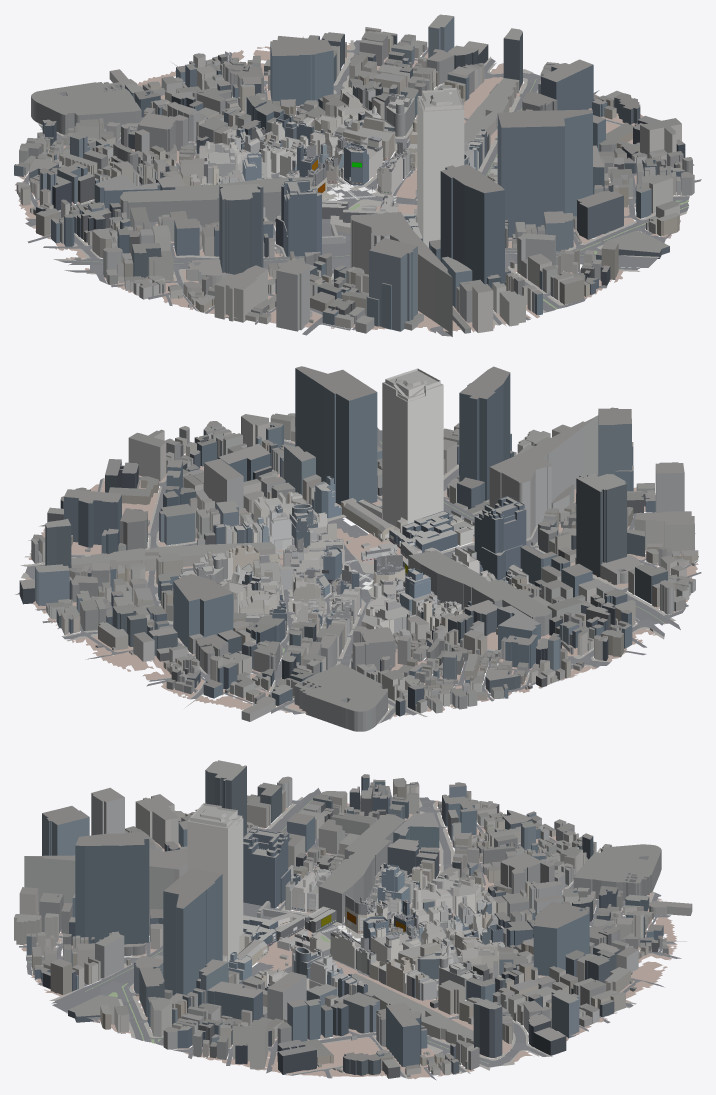
Rendered from shibuya.glb.
3 views of the same model, one above another, from view 1: azimuth 30°, elevation 25°; view 2: azimuth 150°, elevation 25°; view 3: azimuth 270°, elevation 25° (orthographic). The views are drawn at different scales.
Visible parts, largest first — view 1: BldgFar, BldgNear, Ground, Terrain; view 2: BldgFar, BldgNear, Ground, Terrain; view 3: BldgFar, BldgNear, Ground, Terrain, Signs.
Part boxes in pixels (x1=…): BldgFar: x1=14, y1=14, x2=694, y2=336; BldgNear: x1=190, y1=87, x2=497, y2=256; Ground: x1=19, y1=36, x2=701, y2=336; Terrain: x1=15, y1=43, x2=681, y2=332; BldgFar: x1=19, y1=366, x2=698, y2=731; BldgNear: x1=178, y1=368, x2=531, y2=644; Ground: x1=15, y1=427, x2=701, y2=723; Terrain: x1=25, y1=441, x2=698, y2=716; BldgFar: x1=14, y1=760, x2=692, y2=1078; BldgNear: x1=187, y1=803, x2=504, y2=1000; Ground: x1=19, y1=788, x2=686, y2=1080; Terrain: x1=21, y1=796, x2=676, y2=1079; Signs: x1=262, y1=892, x2=423, y2=955.
Bounding box in the file's own units: 994 × 233 × 1019.
